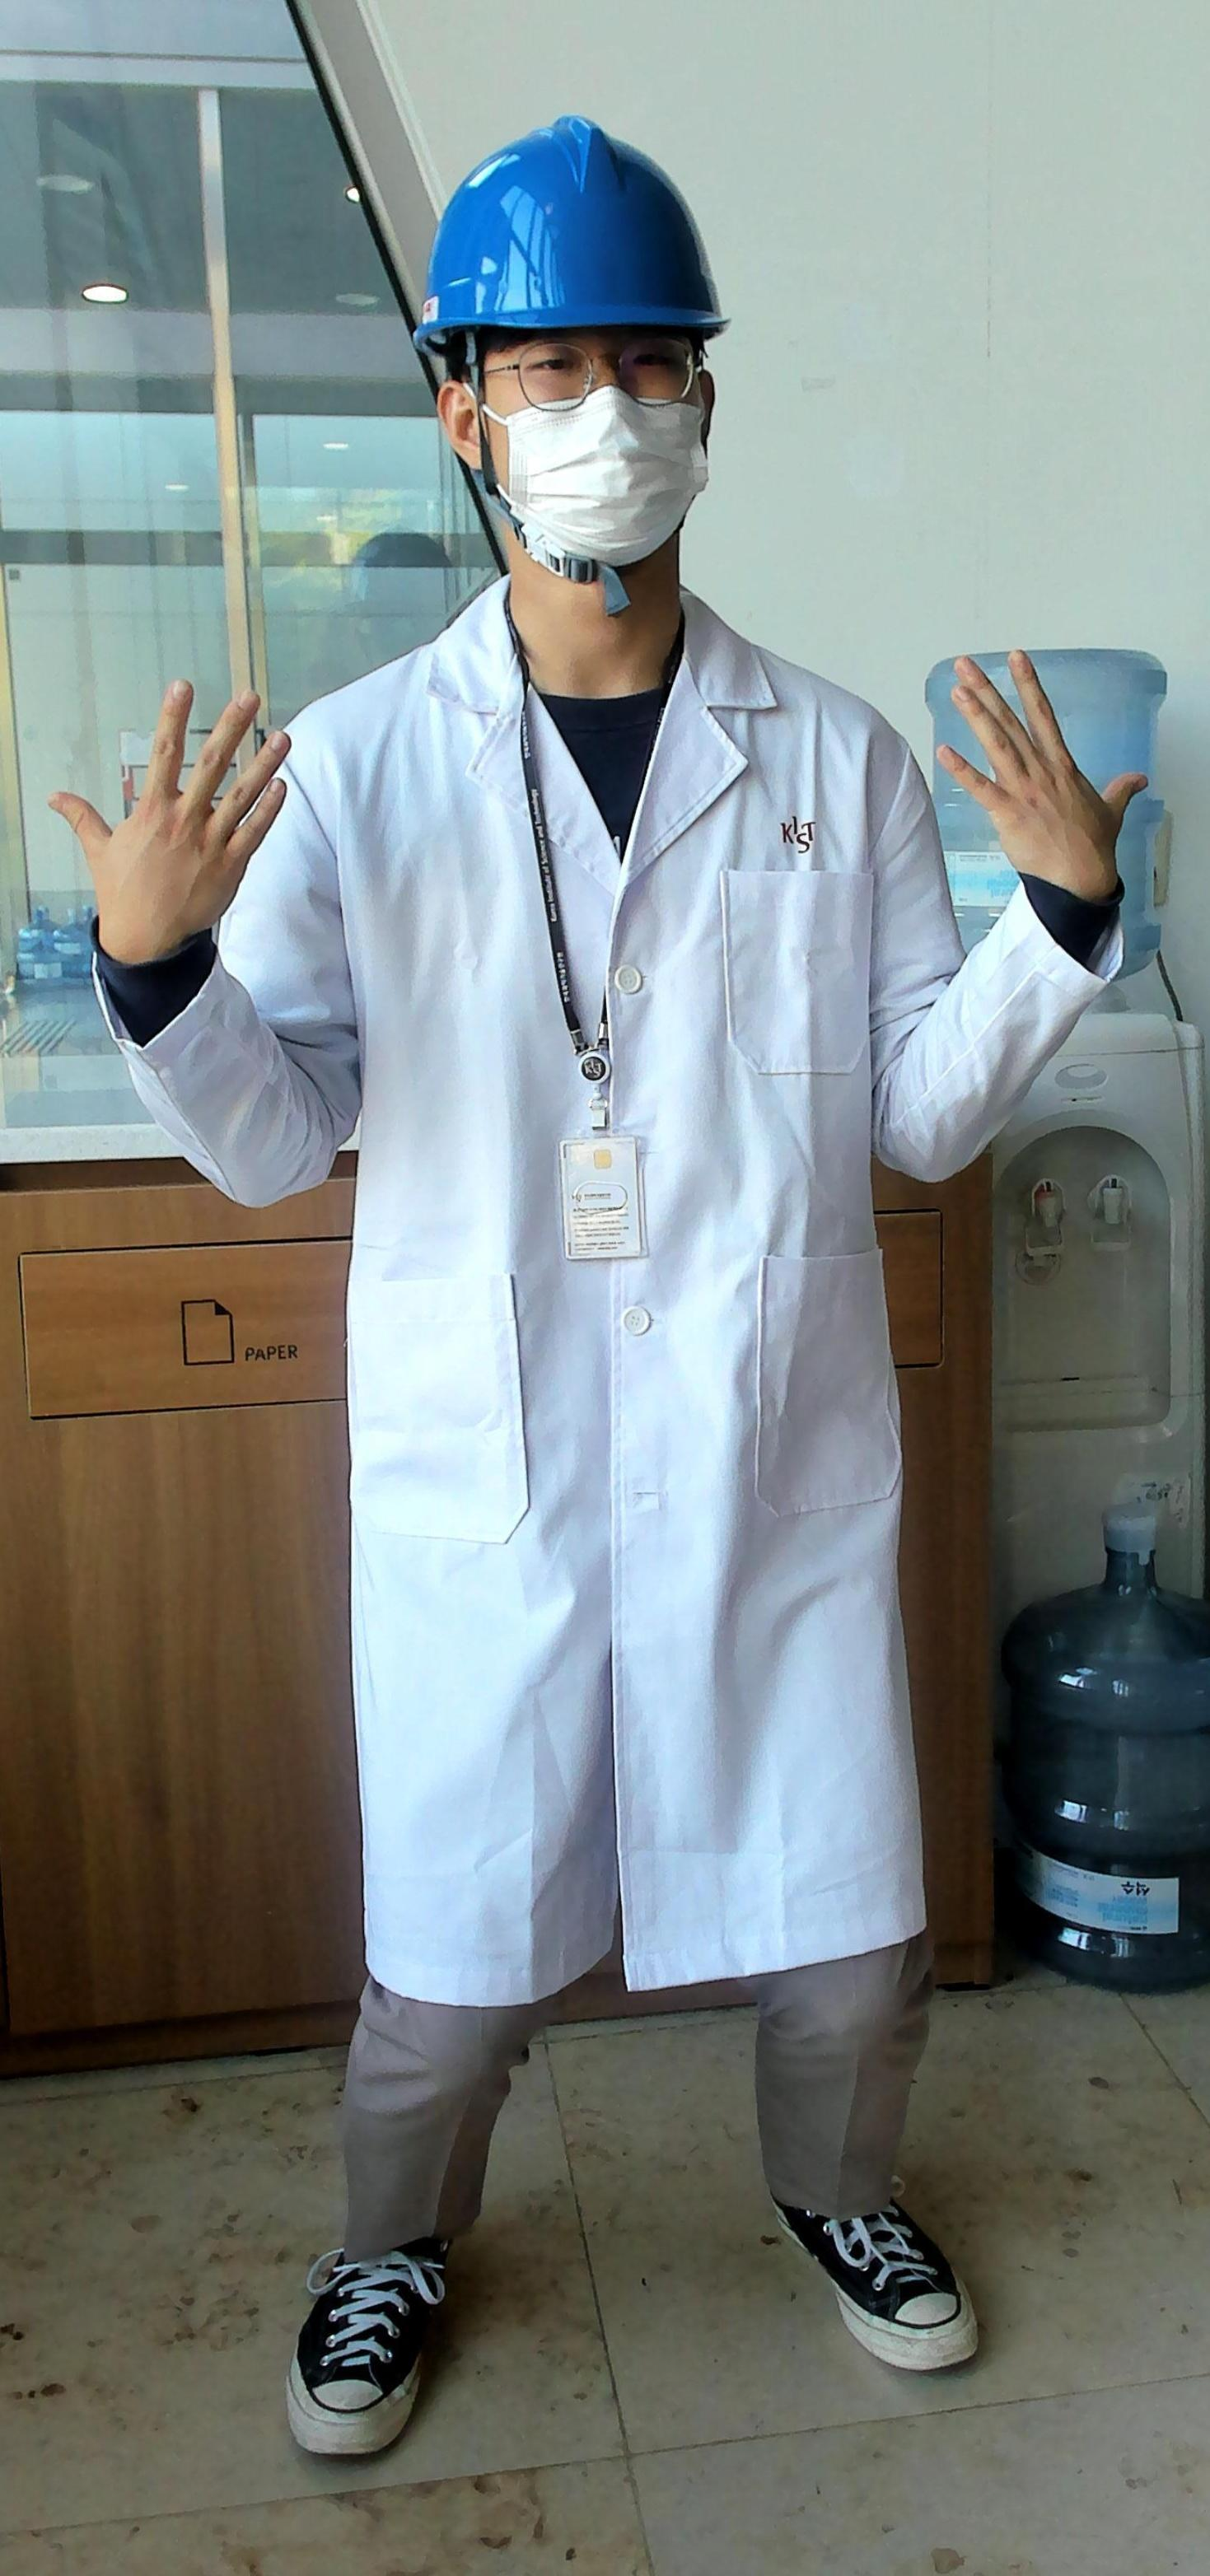lab_coat: (326, 693, 927, 1942)
